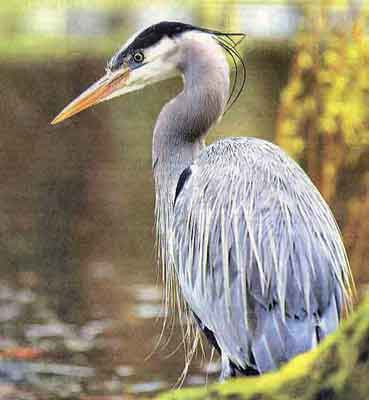heron: (47, 19, 361, 381)
